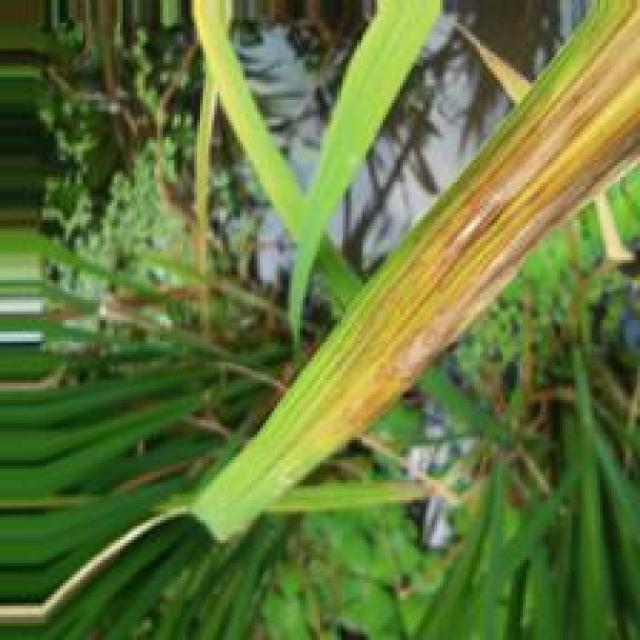Leaf_Scald: (380, 176, 605, 400), (453, 89, 604, 259)
